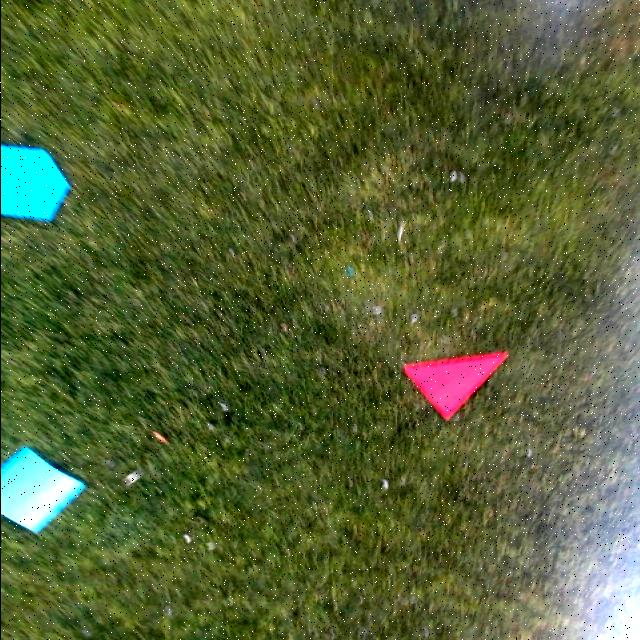red_triangle: (404, 352, 509, 420)
